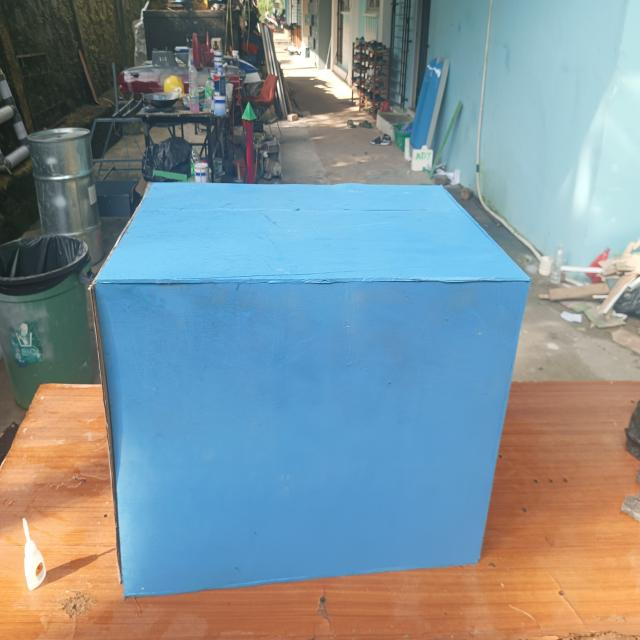blue_box: (87, 154, 530, 596)
